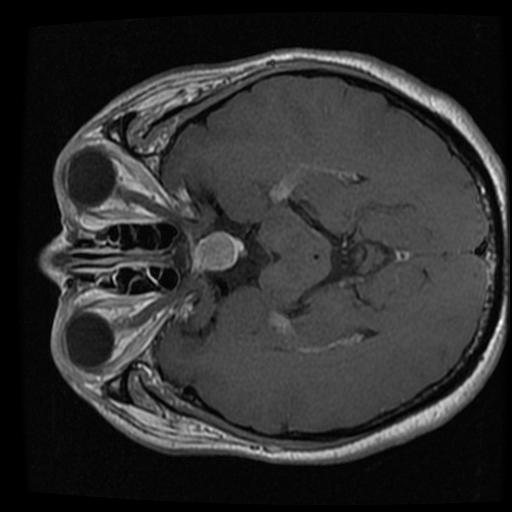pituitary tumour: (191, 232, 245, 272)
